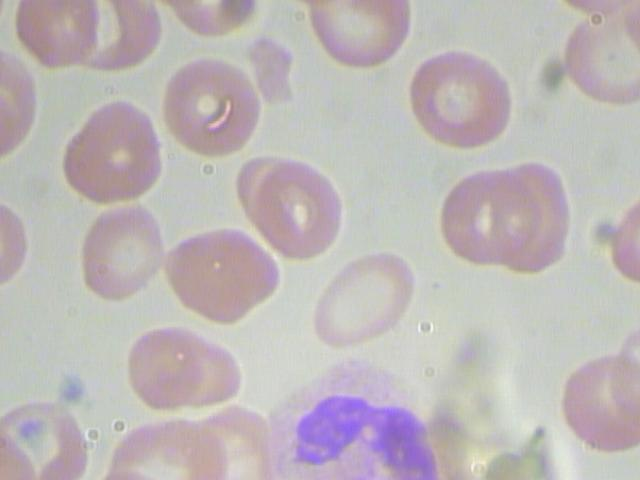RBC: (47, 191, 169, 313), (401, 44, 531, 158), (56, 93, 171, 213), (228, 153, 348, 267), (162, 51, 279, 166), (152, 225, 284, 326), (307, 247, 424, 357), (119, 326, 245, 419), (491, 150, 580, 277), (436, 170, 539, 269), (296, 1, 421, 73)
